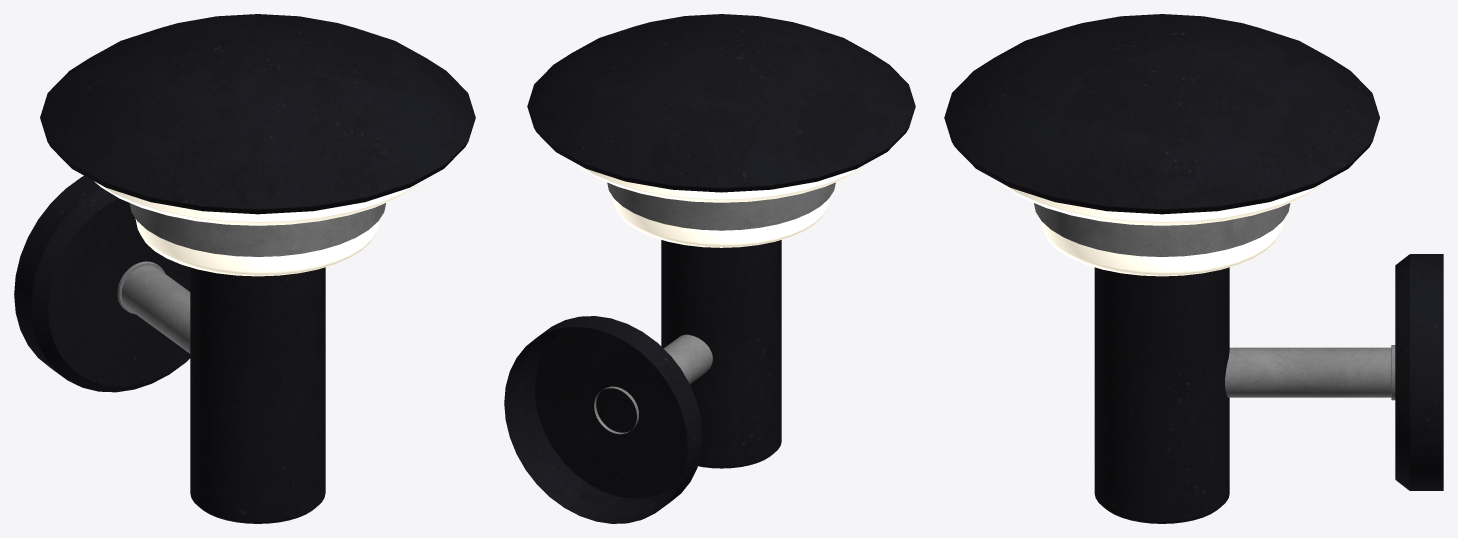
The model's file is lamp2.glb.
3 renders of one model, left to right at view 1: azimuth 30°, elevation 25°; view 2: azimuth 150°, elevation 25°; view 3: azimuth 270°, elevation 25°, orthographic. The views are drawn at different scales.
Visible parts, largest first — view 1: Sm_WallLamp03; view 2: Sm_WallLamp03; view 3: Sm_WallLamp03.
Part boxes in pixels (box(x1,y1,x2,y2)): Sm_WallLamp03: box(14, 14, 475, 523); Sm_WallLamp03: box(504, 14, 915, 523); Sm_WallLamp03: box(944, 14, 1443, 523).
Size of the model in its own units: 0.2972 by 0.338 by 0.3406.
2 materials, 1 textured.
